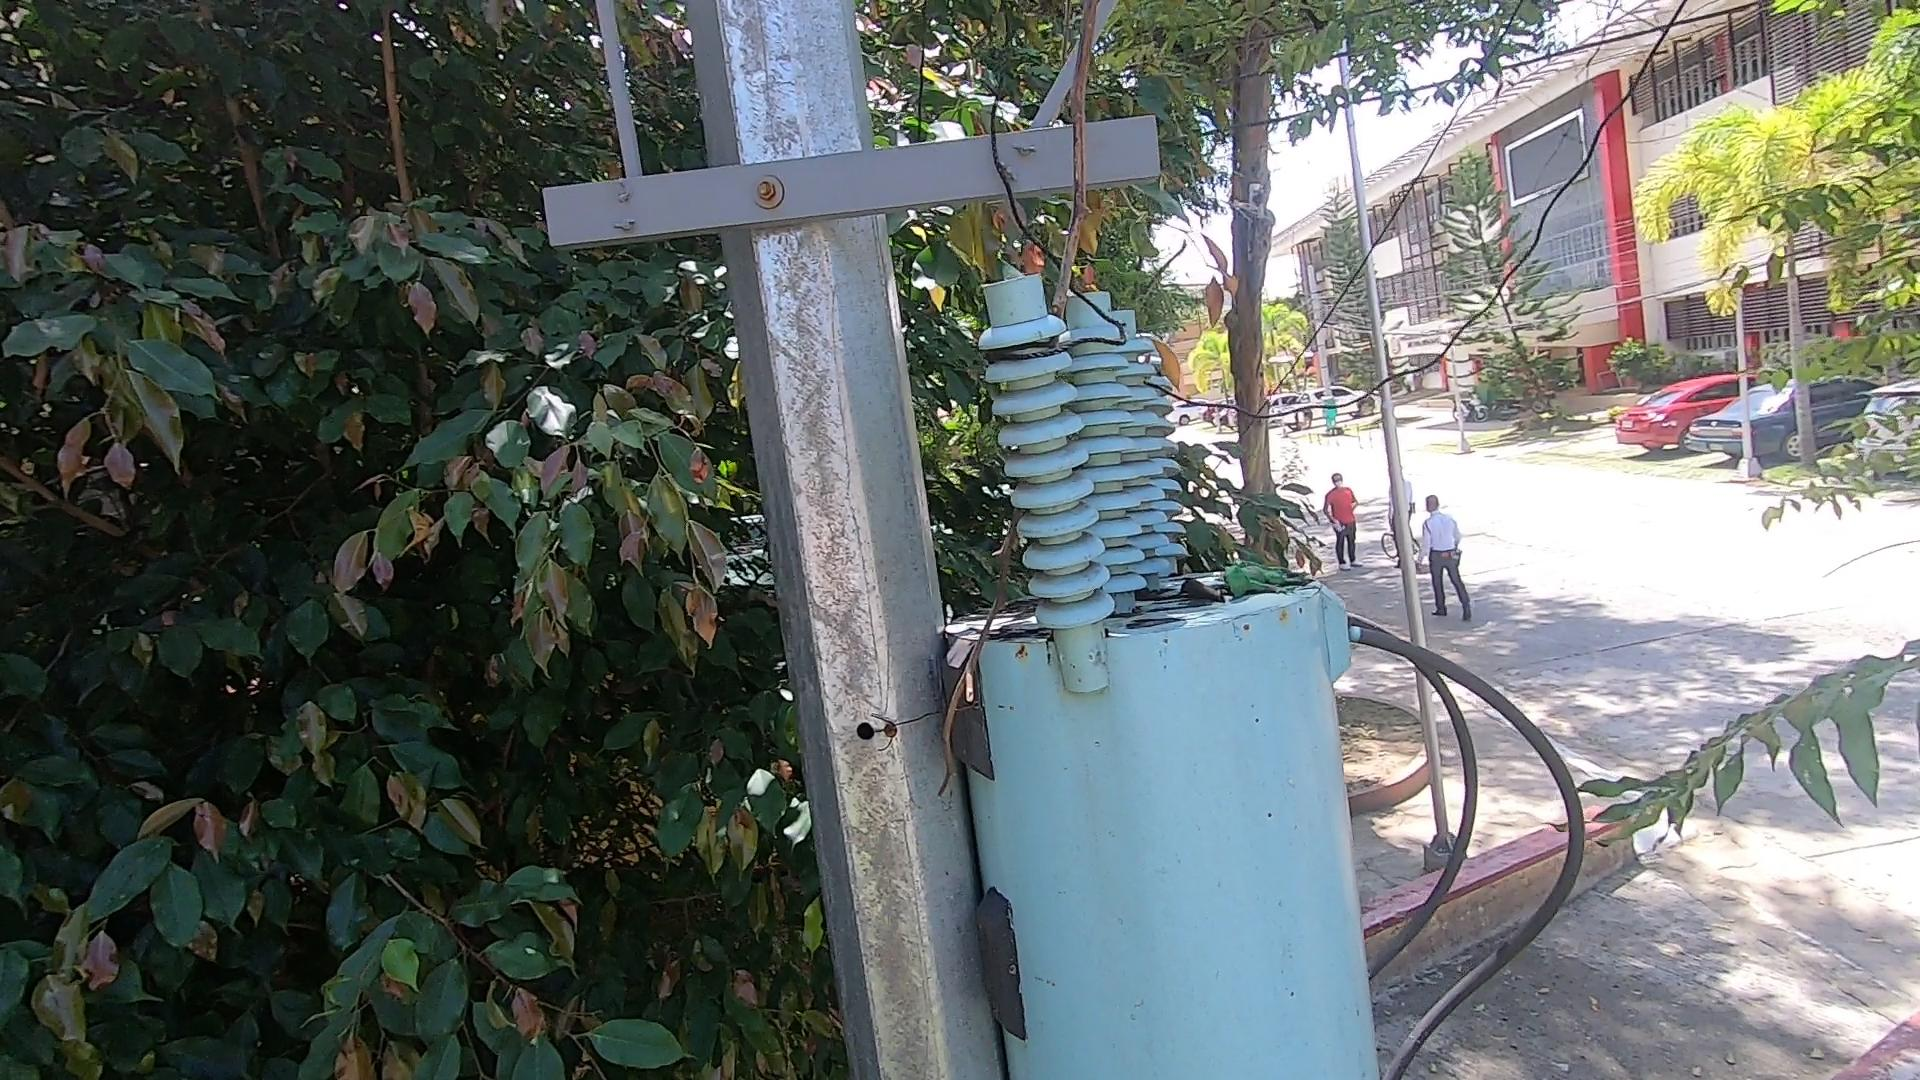leaf: (1139, 323, 1197, 389), (1182, 574, 1215, 603), (1138, 584, 1170, 603)
tree branch: (862, 9, 1126, 750)
